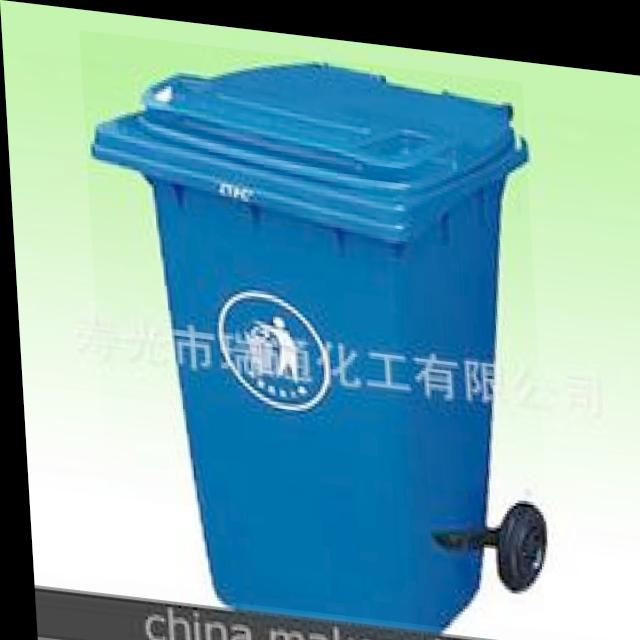garbage_bin: (79, 28, 548, 628)
